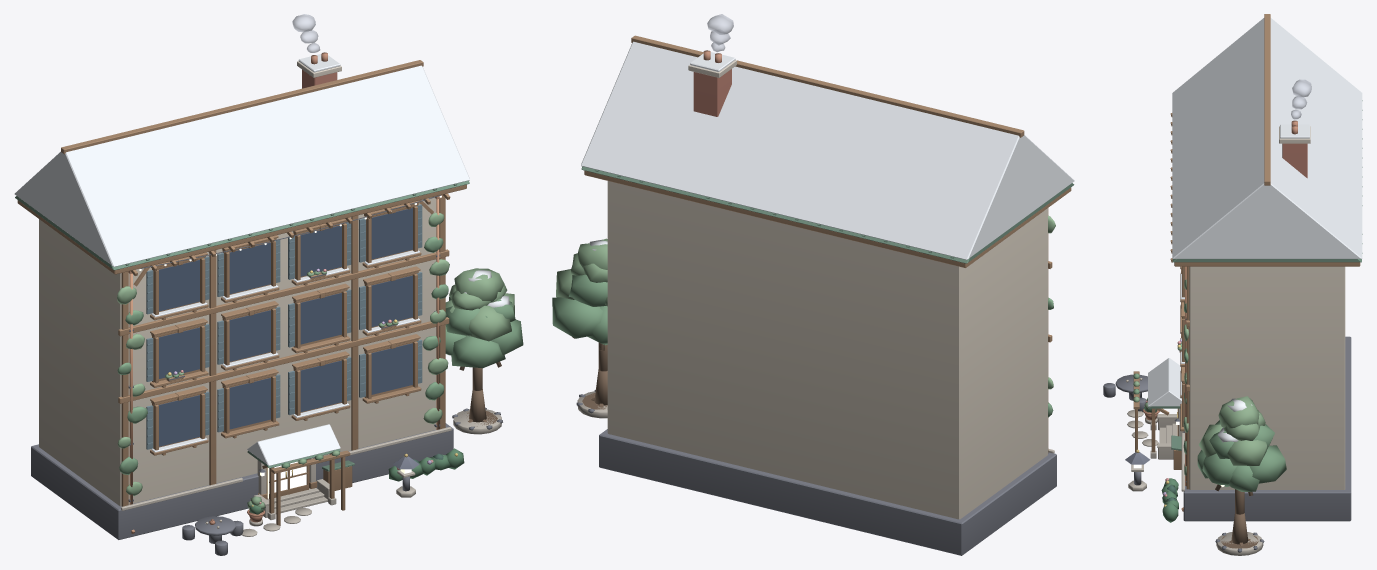
File: dorm_staff.glb
3 renders of one model, left to right at view 1: azimuth 30°, elevation 25°; view 2: azimuth 150°, elevation 25°; view 3: azimuth 270°, elevation 25°, orthographic. The views are drawn at different scales.
Visible parts, largest first — view 1: Season_Snow_Merged_Mat_Snow_Cap, Dorm_Body, Static_Merged_Mat_Wood_Warm, Static_Merged_Mat_Ground_Stone, Static_Merged_Mat_Shutter_Slate, Static_Merged_Mat_Stone_Trim, Static_Merged_Mat_Leaf_Accent, Static_Merged_Mat_Leaf_Main, Season_Vines_Merged_Mat_Leaf_Accent, Static_Merged_Mat_Roof_Moss, Season_Vines_Merged_Mat_Leaf_Main, Window_Glass_0_1 (+15 smaller); view 2: Dorm_Body, Season_Snow_Merged_Mat_Snow_Cap, Static_Merged_Mat_Ground_Stone, Static_Merged_Mat_Wood_Warm, Static_Merged_Mat_Leaf_Main, Static_Merged_Mat_Roof_Moss, Static_Merged_Mat_Leaf_Accent, Chimney_Base, Static_Merged_Mat_Trunk, Static_Merged_Mat_Smoke_Wisp; view 3: Season_Snow_Merged_Mat_Snow_Cap, Dorm_Body, Static_Merged_Mat_Ground_Stone, Static_Merged_Mat_Wood_Warm, Static_Merged_Mat_Leaf_Main, Static_Merged_Mat_Leaf_Accent, Static_Merged_Mat_Stone_Trim, Static_Merged_Mat_Roof_Moss, Static_Merged_Mat_Trunk, Chimney_Base, Static_Merged_Mat_Hedge_Leaf, Static_Merged_Mat_Smoke_Wisp.
Boxes of the visible parts, <box> form: Season_Snow_Merged_Mat_Snow_Cap: <box>14,54,510,465</box>; Dorm_Body: <box>39,197,436,506</box>; Static_Merged_Mat_Wood_Warm: <box>17,60,466,525</box>; Static_Merged_Mat_Ground_Stone: <box>31,408,502,555</box>; Static_Merged_Mat_Shutter_Slate: <box>146,204,422,449</box>; Static_Merged_Mat_Stone_Trim: <box>121,409,501,536</box>; Static_Merged_Mat_Leaf_Accent: <box>247,268,514,509</box>; Static_Merged_Mat_Leaf_Main: <box>445,296,523,368</box>; Season_Vines_Merged_Mat_Leaf_Accent: <box>117,212,449,495</box>; Static_Merged_Mat_Roof_Moss: <box>15,180,469,471</box>; Season_Vines_Merged_Mat_Leaf_Main: <box>117,236,448,474</box>; Window_Glass_0_1: <box>229,378,270,429</box>; Dorm_Body: <box>607,181,1047,519</box>; Season_Snow_Merged_Mat_Snow_Cap: <box>581,41,1074,259</box>; Static_Merged_Mat_Ground_Stone: <box>576,389,1056,555</box>; Static_Merged_Mat_Wood_Warm: <box>584,35,1071,453</box>; Static_Merged_Mat_Leaf_Main: <box>552,274,607,345</box>; Static_Merged_Mat_Roof_Moss: <box>581,166,1074,263</box>; Static_Merged_Mat_Leaf_Accent: <box>556,238,607,306</box>; Chimney_Base: <box>693,69,731,116</box>; Static_Merged_Mat_Trunk: <box>572,337,607,409</box>; Static_Merged_Mat_Smoke_Wisp: <box>707,14,733,52</box>; Season_Snow_Merged_Mat_Snow_Cap: <box>1148,18,1362,442</box>; Dorm_Body: <box>1189,266,1345,489</box>; Static_Merged_Mat_Ground_Stone: <box>1103,336,1351,552</box>; Static_Merged_Mat_Wood_Warm: <box>1133,14,1360,489</box>; Static_Merged_Mat_Leaf_Main: <box>1197,420,1286,491</box>; Static_Merged_Mat_Leaf_Accent: <box>1144,396,1266,465</box>; Static_Merged_Mat_Stone_Trim: <box>1127,408,1263,555</box>; Static_Merged_Mat_Roof_Moss: <box>1148,100,1362,450</box>; Static_Merged_Mat_Trunk: <box>1215,484,1258,548</box>; Chimney_Base: <box>1282,143,1307,178</box>; Static_Merged_Mat_Hedge_Leaf: <box>1144,407,1178,522</box>; Static_Merged_Mat_Smoke_Wisp: <box>1291,79,1311,119</box>.
Size of the model in its own units: 21.2 by 19.48 by 11.29.
